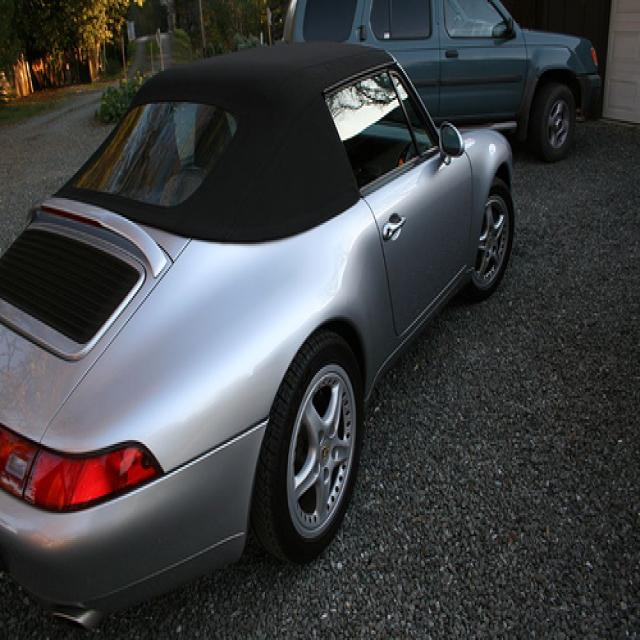car: (1, 38, 517, 635), (281, 1, 605, 159)
